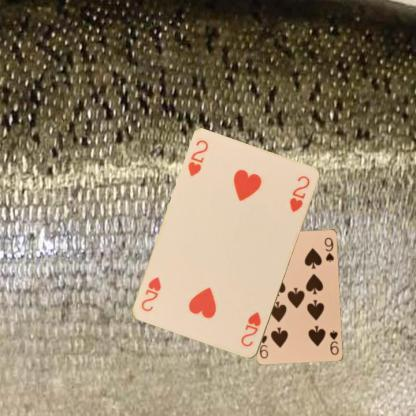2h: (185, 137, 210, 178), (238, 310, 262, 348)
9s: (327, 328, 340, 356)
